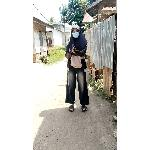Senapan: (70, 43, 78, 53)
